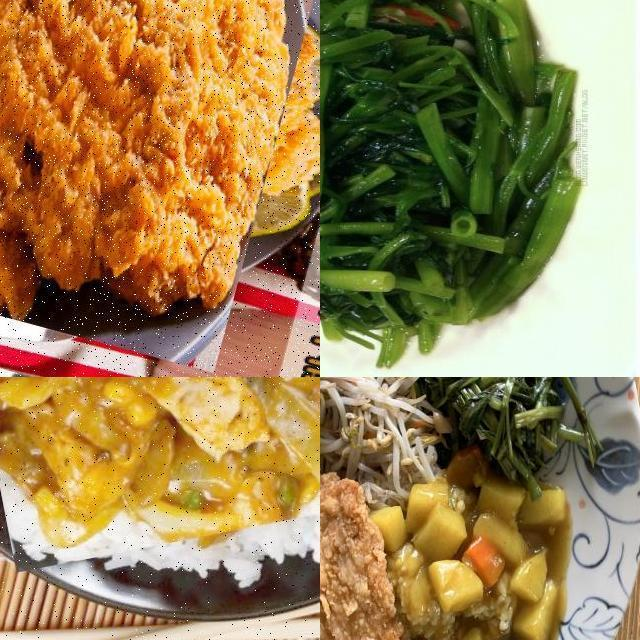curry: (0, 377, 320, 640), (384, 460, 564, 640)
fried_chicken: (0, 0, 320, 350), (320, 486, 391, 640)
mung_bean_sprouts: (320, 377, 411, 468)
water_spinach: (320, 0, 521, 293), (433, 377, 567, 467)
